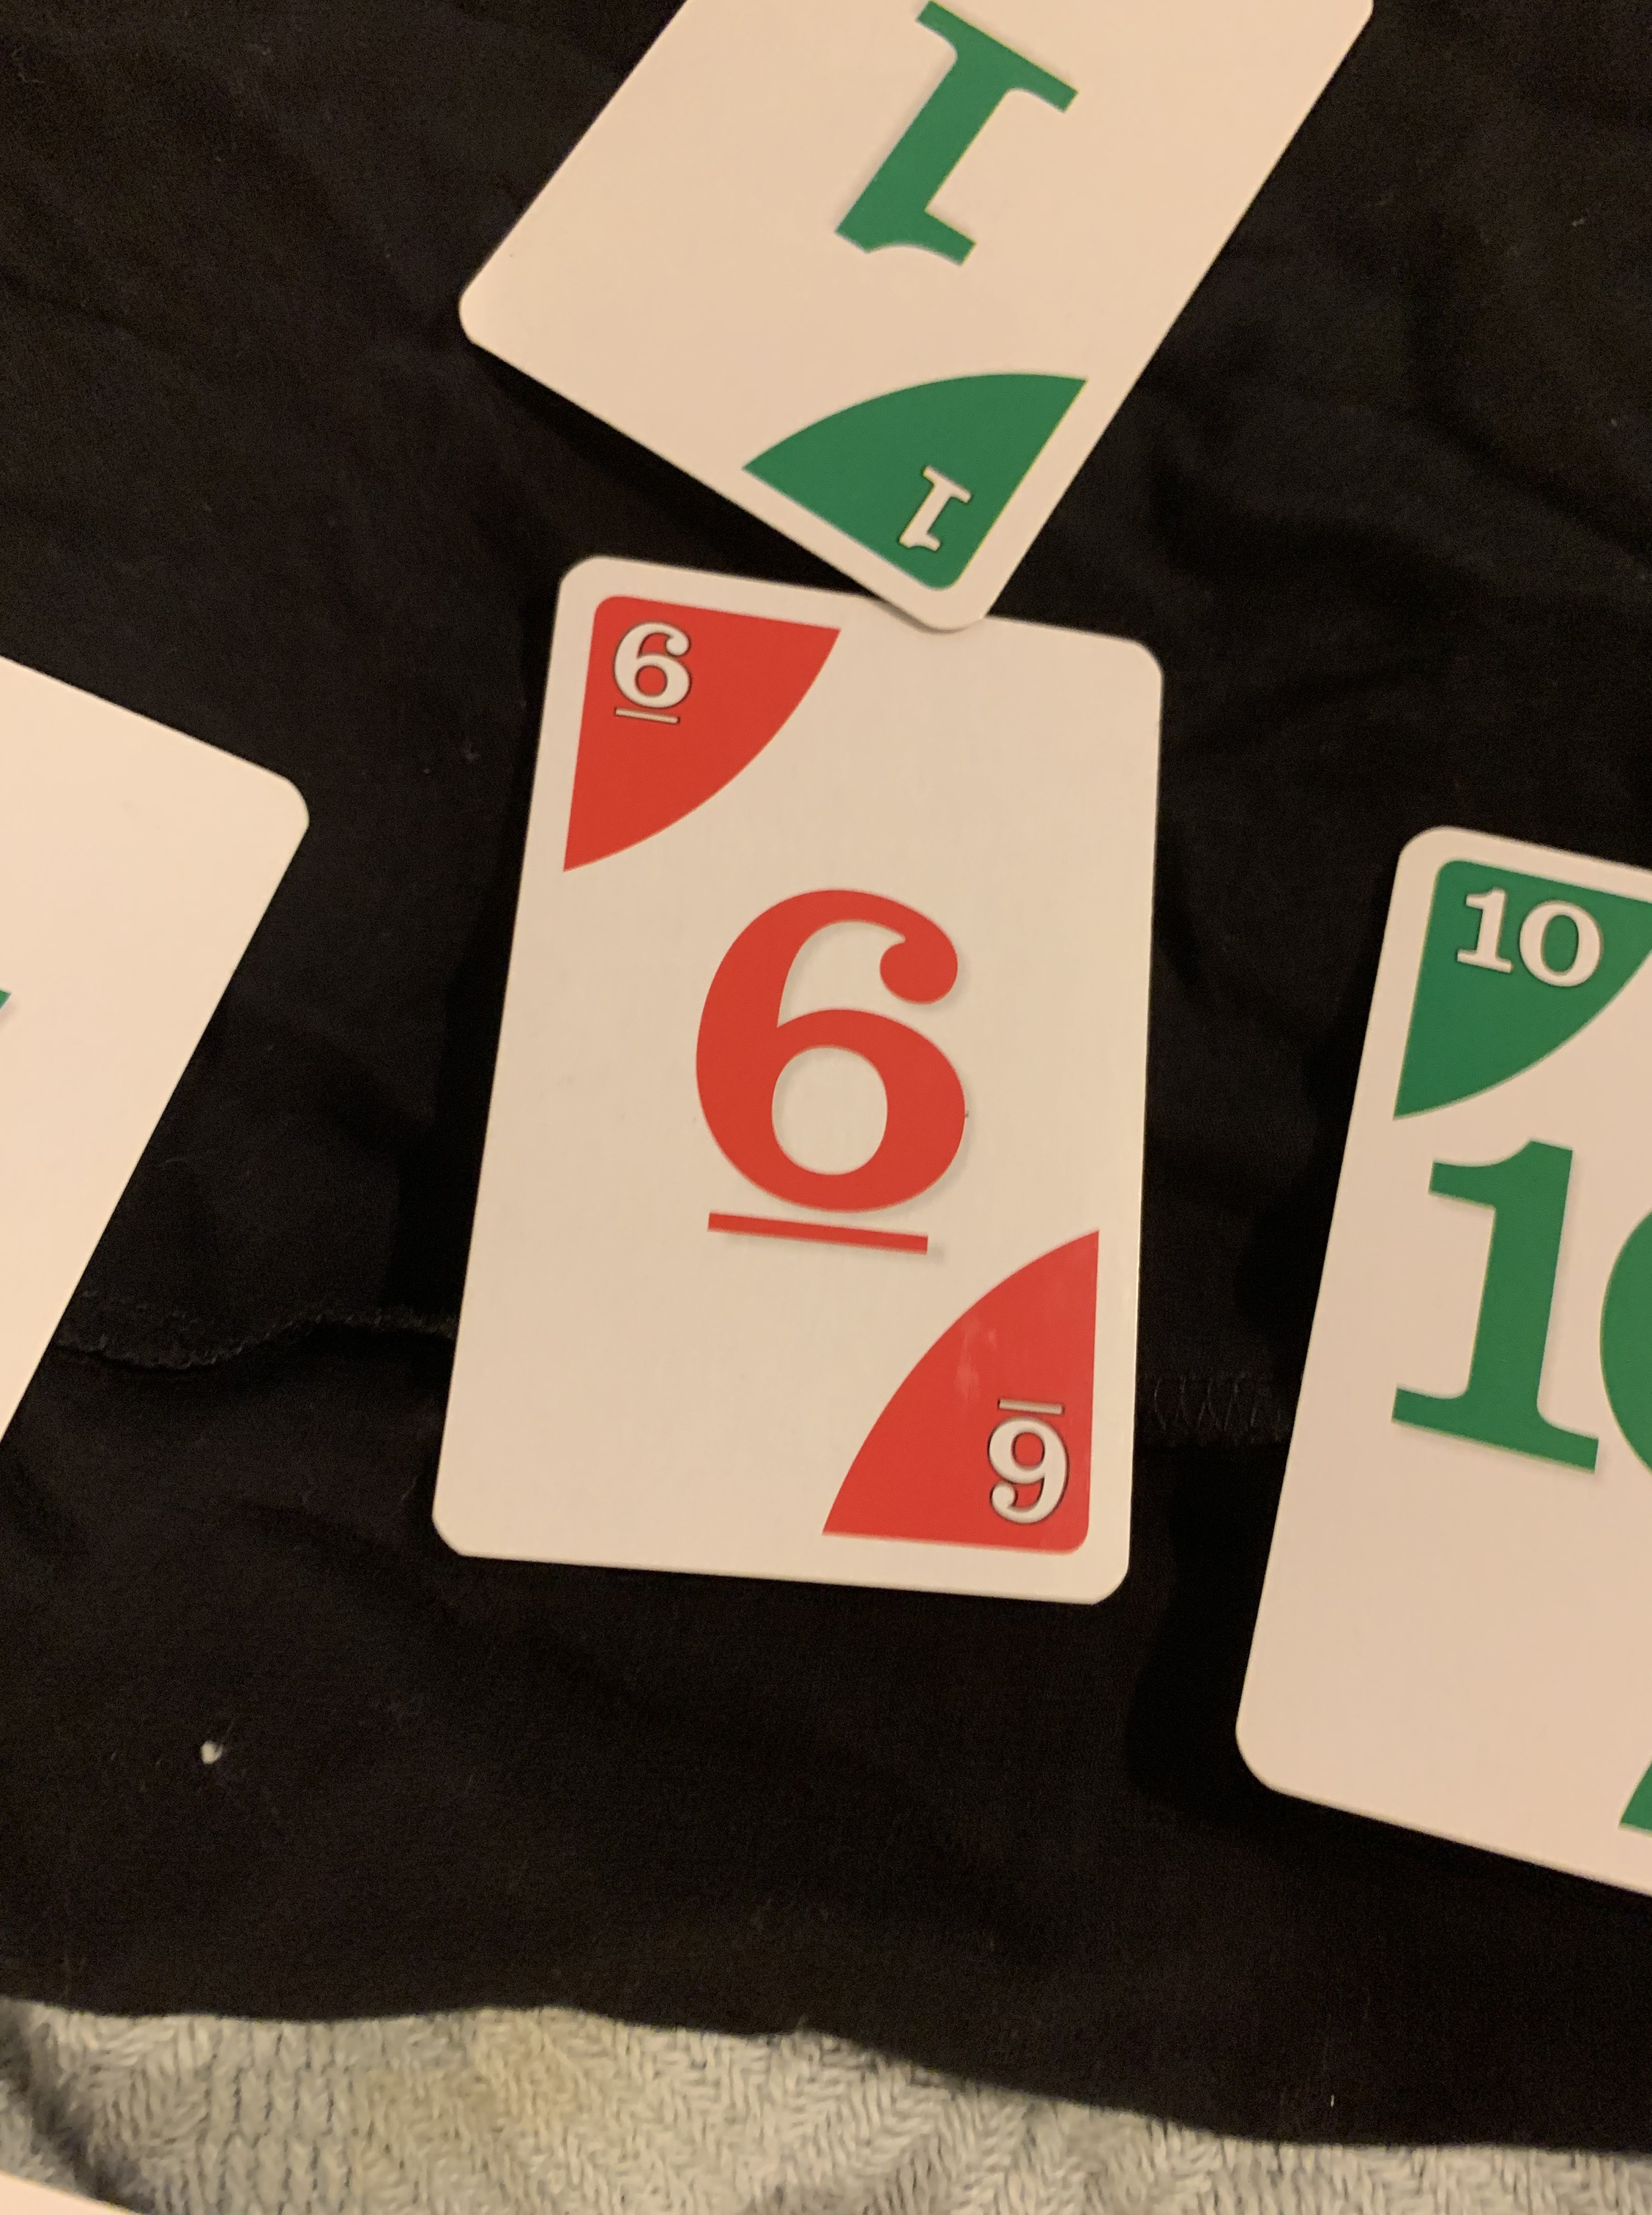six: (427, 545, 1178, 1628)
